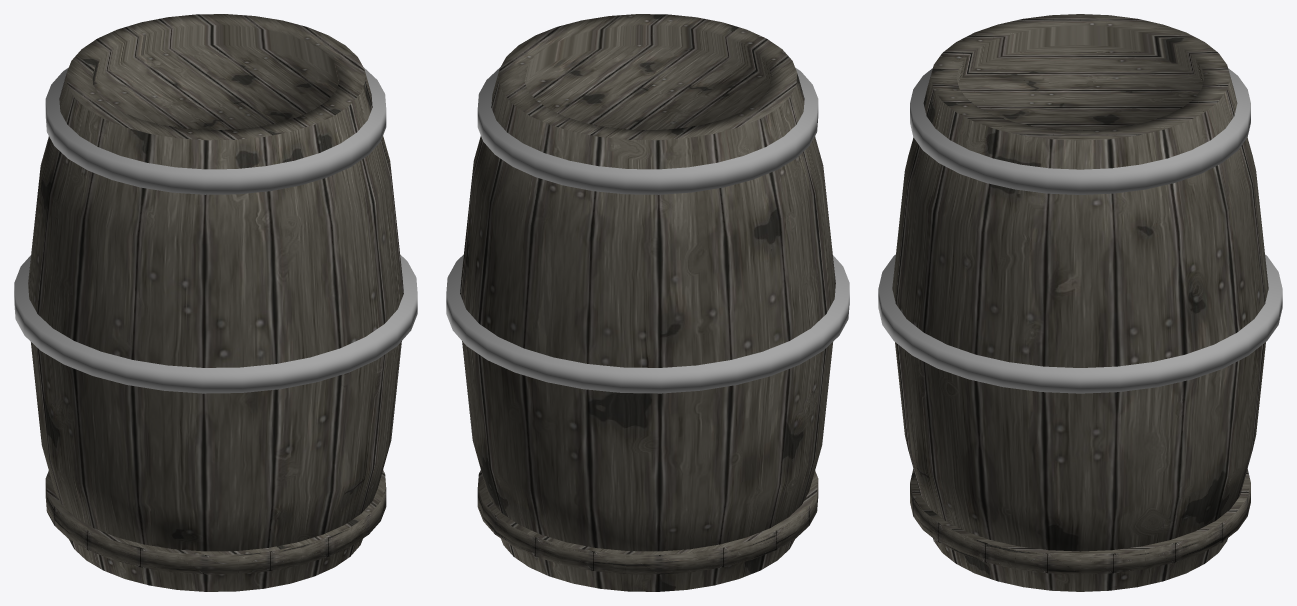
The model's file is Tonneau.glb.
3 renders of one model, left to right at view 1: azimuth 30°, elevation 25°; view 2: azimuth 150°, elevation 25°; view 3: azimuth 270°, elevation 25°, orthographic.
Visible parts, largest first — view 1: Cylindre, Cylindre.002, Cylindre.001, Cylindre.003; view 2: Cylindre, Cylindre.002, Cylindre.001, Cylindre.003; view 3: Cylindre, Cylindre.002, Cylindre.001, Cylindre.003.
Boxes of the visible parts, <box> form: Cylindre: <box>28,14,403,591</box>; Cylindre.002: <box>14,255,417,393</box>; Cylindre.001: <box>45,67,386,194</box>; Cylindre.003: <box>45,470,386,574</box>; Cylindre: <box>460,14,835,591</box>; Cylindre.002: <box>446,255,849,393</box>; Cylindre.001: <box>477,67,818,194</box>; Cylindre.003: <box>477,470,818,574</box>; Cylindre: <box>892,14,1268,591</box>; Cylindre.002: <box>878,254,1282,393</box>; Cylindre.001: <box>910,68,1250,194</box>; Cylindre.003: <box>910,469,1250,574</box>.
Bounding box in the file's own units: 2.74 × 3.38 × 2.74.
2 materials, 1 textured.
